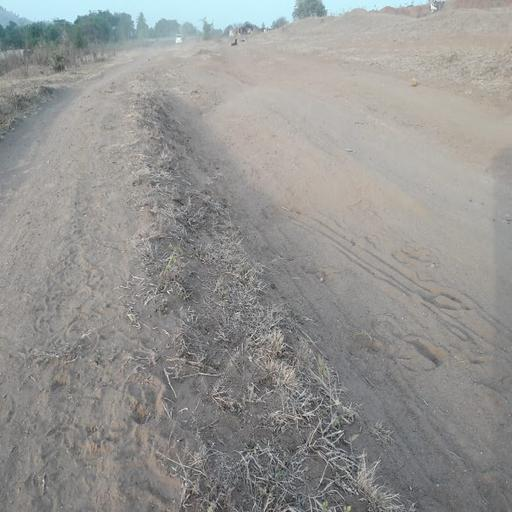vehicle_track: (201, 80, 511, 509), (0, 63, 137, 512)
